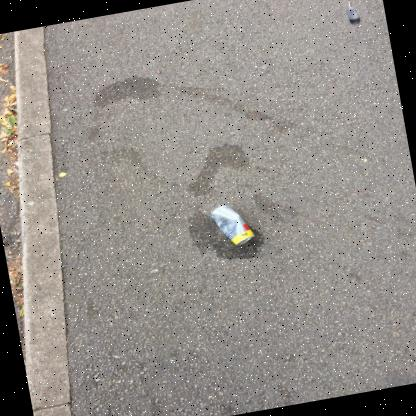Drink can: (211, 205, 255, 245)
Pop tab: (242, 238, 248, 244)
